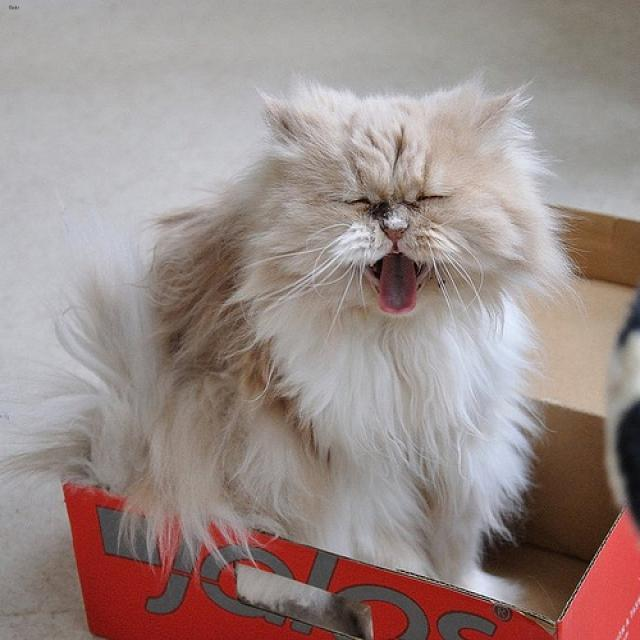Persian: (246, 74, 573, 342)
